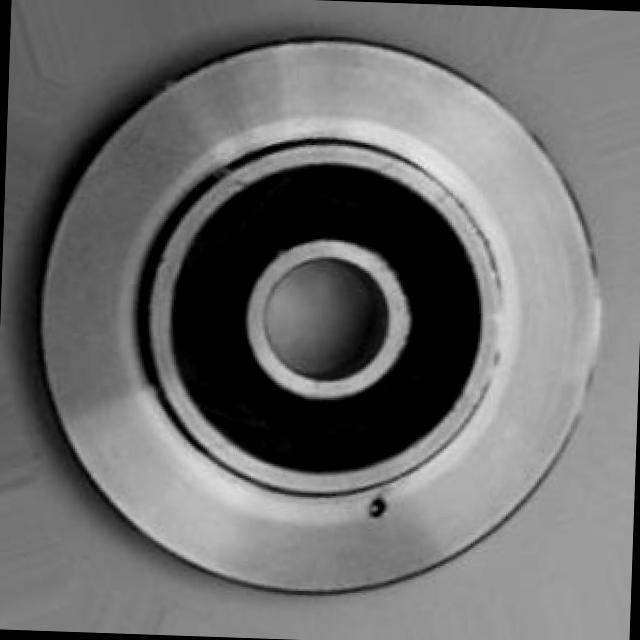Defect: (364, 494, 391, 521)
